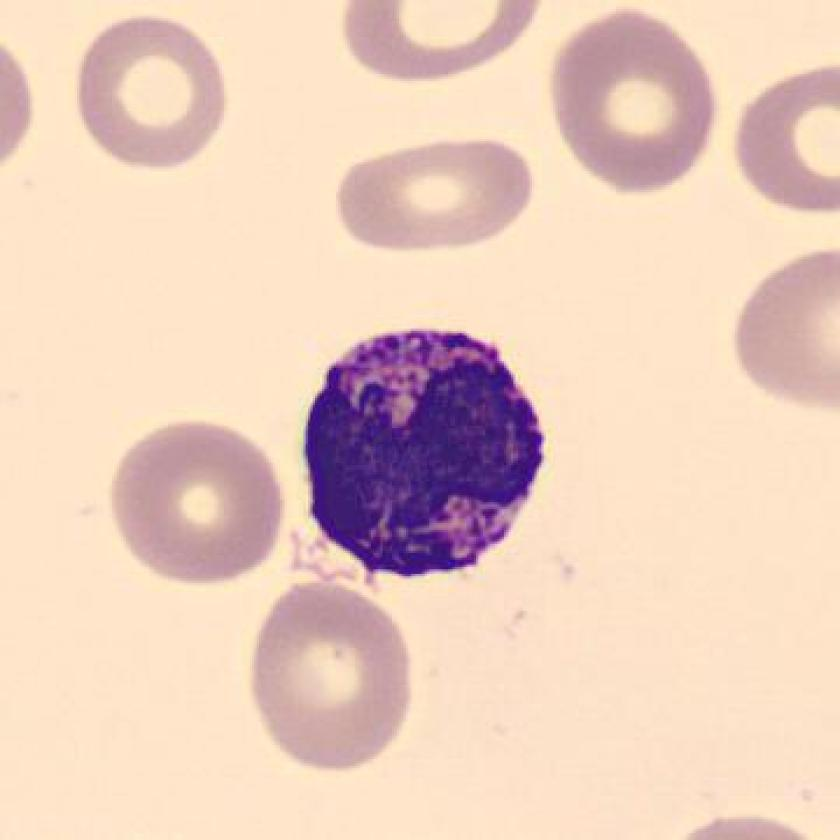basophil: (300, 316, 554, 591)
